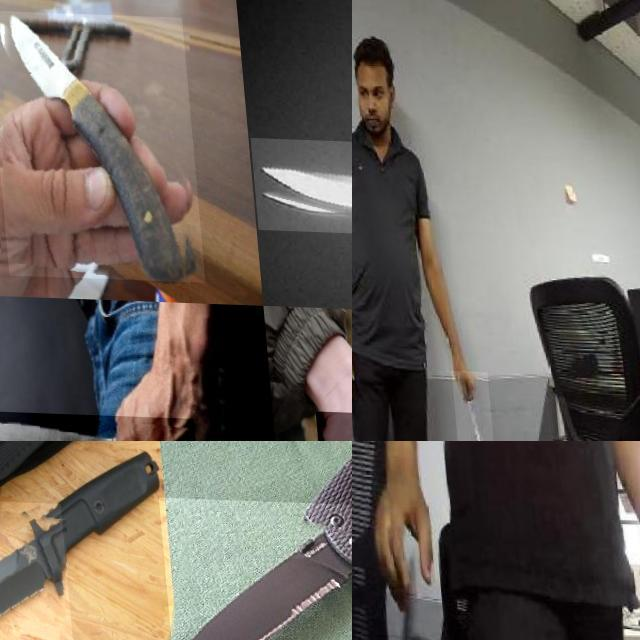-: (0, 9, 200, 280), (156, 495, 352, 640), (0, 497, 103, 640), (247, 135, 352, 234), (0, 410, 190, 441), (442, 369, 485, 441)
